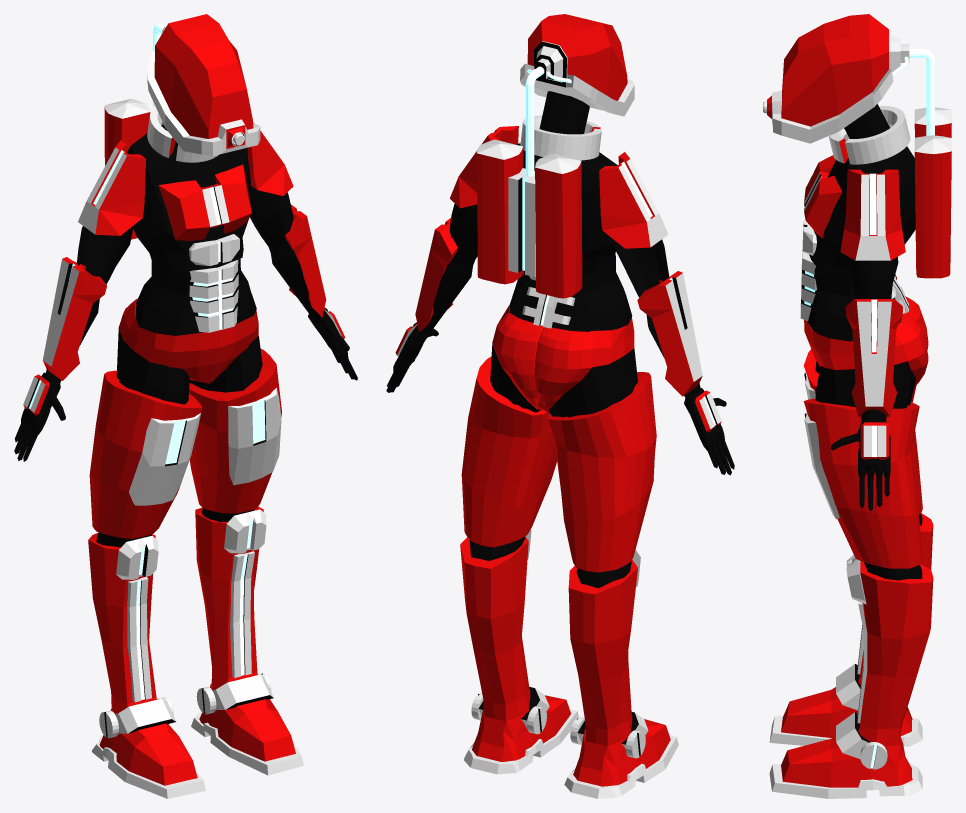
Rendered from creep_area_model_asset.glb.
3 views of the same model, side by side, from view 1: azimuth 30°, elevation 25°; view 2: azimuth 150°, elevation 25°; view 3: azimuth 270°, elevation 25° (orthographic).
Parts seen in each view (by area): view 1: Quadricipite Armor.001_48, Glass Helm_38, Quadricipite Armor_46, Chest.001_12, Calves Boot_20, Calves Boot.001_23, Pelvic_14, Chest armor_15, Abs_13, Forearm Armor.001_6, Decoration Quadricipite Armor.001_49, Shoulder armor.001_1 (+26 smaller); view 2: Quadricipite Armor.001_48, Quadricipite Armor_46, Calves Boot.001_23, Calves Boot_20, Pelvic_14, Glass Helm_38, oxygen pack.001_19, oxygen pack_17, Abs_13, Forearm Armor.001_6, Shoulder armor.001_1, quadriceps.001_43 (+18 smaller); view 3: Quadricipite Armor_46, Glass Helm_38, Calves Boot_20, oxygen pack_17, Shoulder armor_0, Forearm Armor_4, shoe armor_26, Chest.001_12, Pelvic_14, quadriceps_41, Abs_13, Ornament Helm Oxygen_39 (+21 smaller).
Boxes of the visible parts, x1,y1,x2,y2 form: Quadricipite Armor.001_48: (89,370,202,538); Glass Helm_38: (154,14,253,138); Quadricipite Armor_46: (189,349,281,513); Chest.001_12: (127,124,250,271); Calves Boot_20: (195,506,263,689); Calves Boot.001_23: (88,533,156,713); Pelvic_14: (118,298,258,383); Chest armor_15: (158,164,251,240); Abs_13: (135,254,256,335); Forearm Armor.001_6: (42,257,106,380); Decoration Quadricipite Armor.001_49: (129,413,200,505); Shoulder armor.001_1: (78,140,145,235); Quadricipite Armor.001_48: (548,372,656,572); Quadricipite Armor_46: (461,356,557,547); Calves Boot.001_23: (568,559,637,746); Calves Boot_20: (460,536,530,721); Pelvic_14: (492,305,634,412); Glass Helm_38: (527,14,627,110); oxygen pack.001_19: (535,154,582,298); oxygen pack_17: (476,139,523,284); Abs_13: (509,253,632,331); Forearm Armor.001_6: (637,271,702,396); Shoulder armor.001_1: (599,152,668,248); quadriceps.001_43: (549,348,637,588); Quadricipite Armor_46: (803,398,922,568); Glass Helm_38: (781,14,909,126); Calves Boot_20: (858,561,933,746); oxygen pack_17: (914,135,951,278); Shoulder armor_0: (840,169,905,260); Forearm Armor_4: (845,299,902,416); shoe armor_26: (781,736,912,787); Chest.001_12: (809,146,915,268); Pelvic_14: (804,296,928,387); quadriceps_41: (815,361,922,580); Abs_13: (807,266,901,341); Ornament Helm Oxygen_39: (763,56,908,143).
Size of the model in its own units: 1.28 by 2.65 by 0.617.
